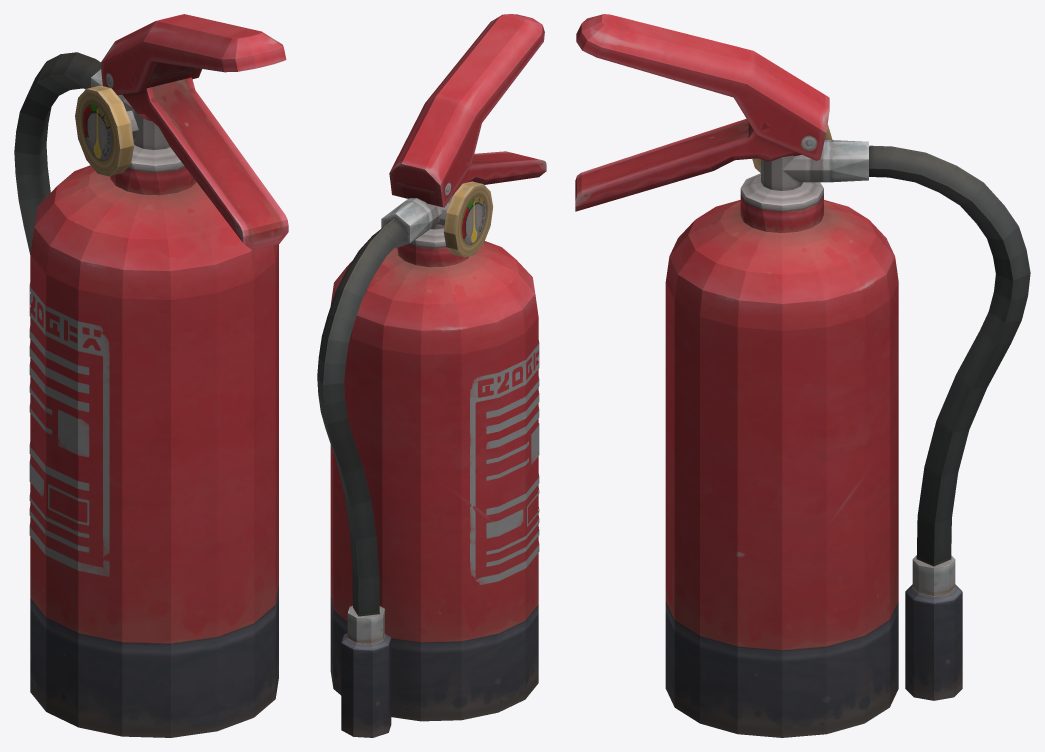
File: P_Extinguisher_002_S1_M01.obj
3 renders of one model, left to right at view 1: azimuth 30°, elevation 25°; view 2: azimuth 150°, elevation 25°; view 3: azimuth 270°, elevation 25°, orthographic. The views are drawn at different scales.
Size of the model in its own units: 0.2849 by 0.9008 by 0.5549.
1 material, 1 textured.
